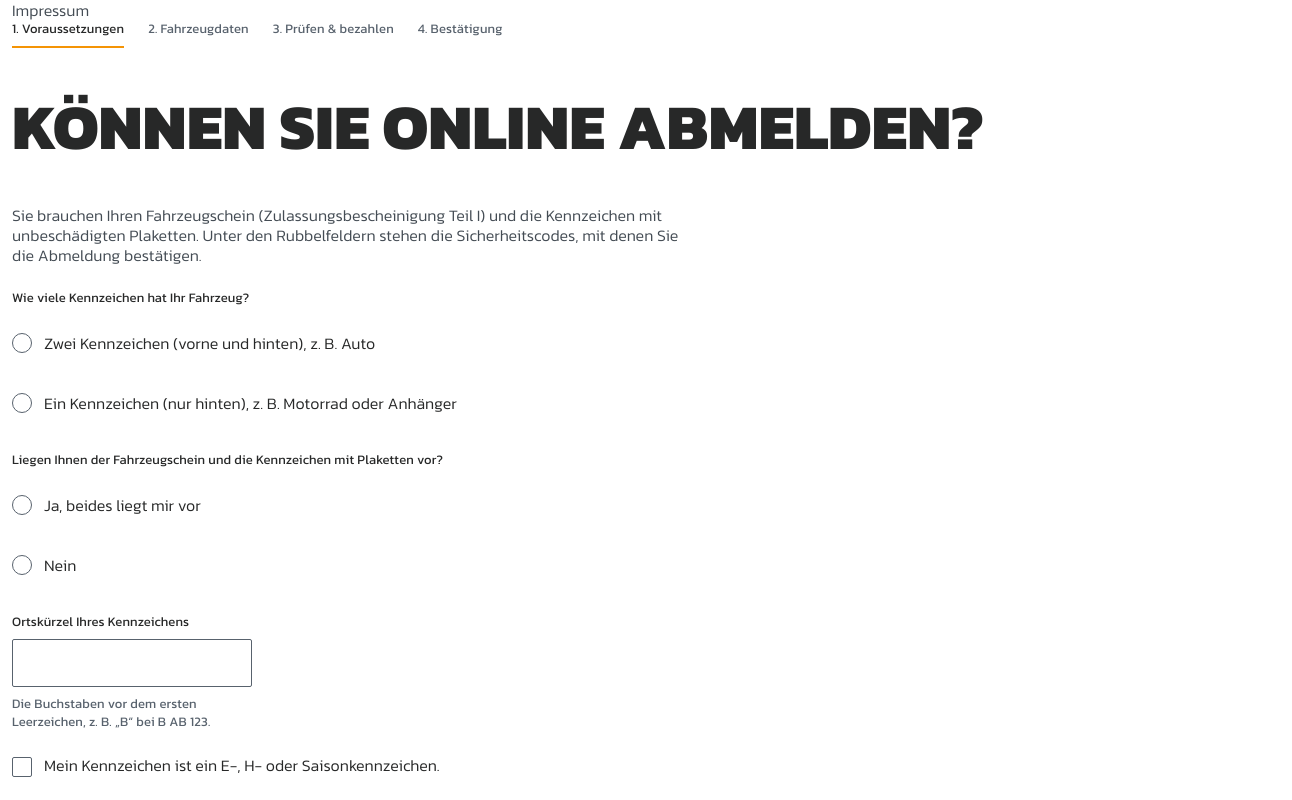
Test: de-registration funnel › eligibility › warns before any data entry when the authority processes by hand
Click the 1st radio button named "Zwei Kennzeichen": point(22, 343) left=12, top=333, right=32, bottom=353
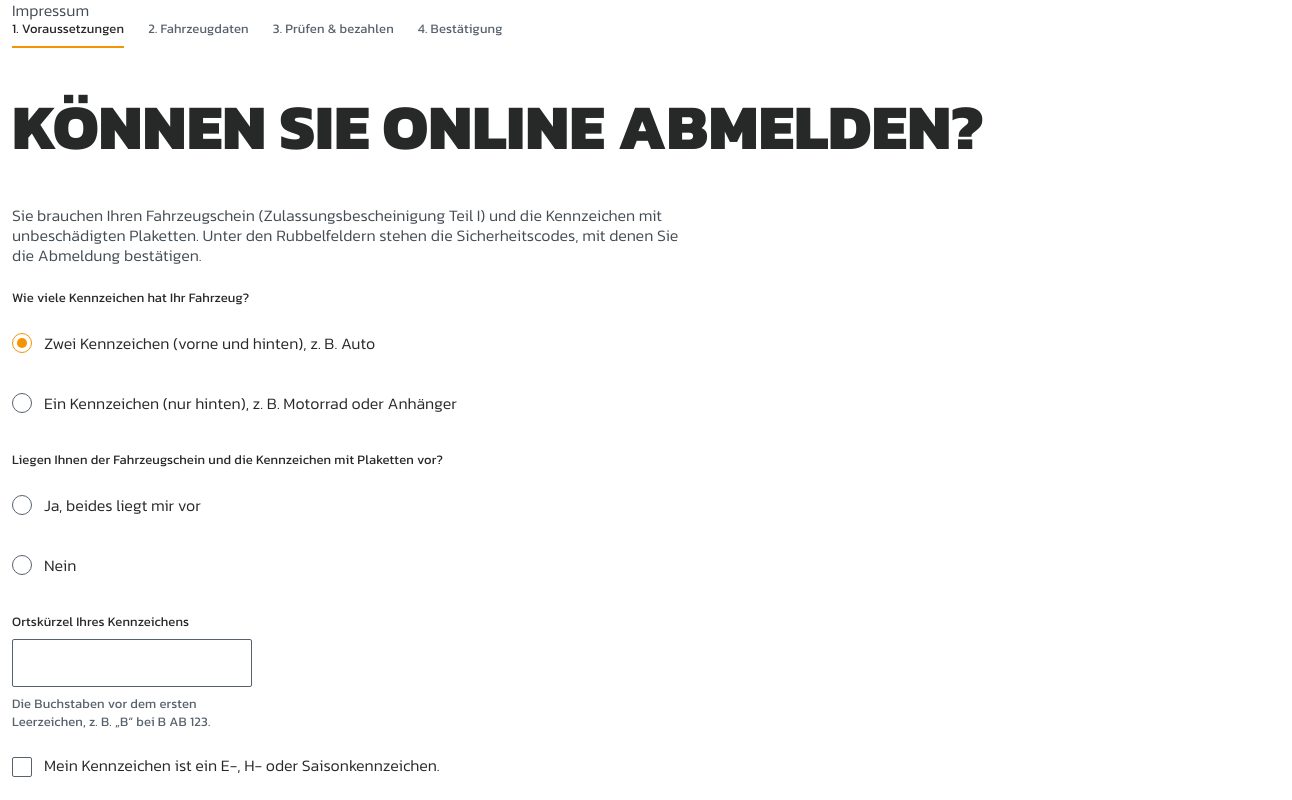
Click the radio button named "Ja, beides liegt mir vor" next to "Ja, beides liegt mir vor": point(22, 505) left=12, top=495, right=32, bottom=515
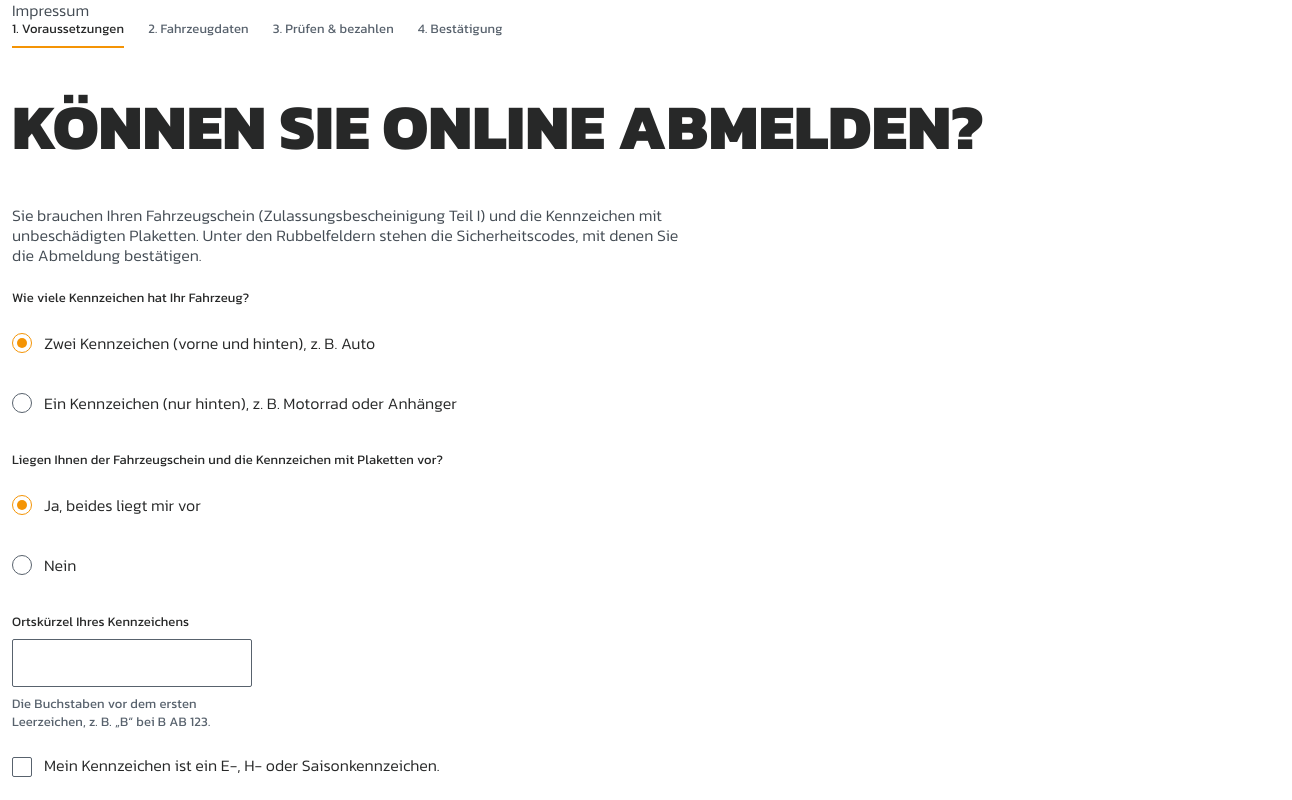
In the field labelled "Ortskürzel Ihres Kennzeichens": point(132, 663) left=12, top=639, right=252, bottom=687, type "aaa"
(page scrolled)
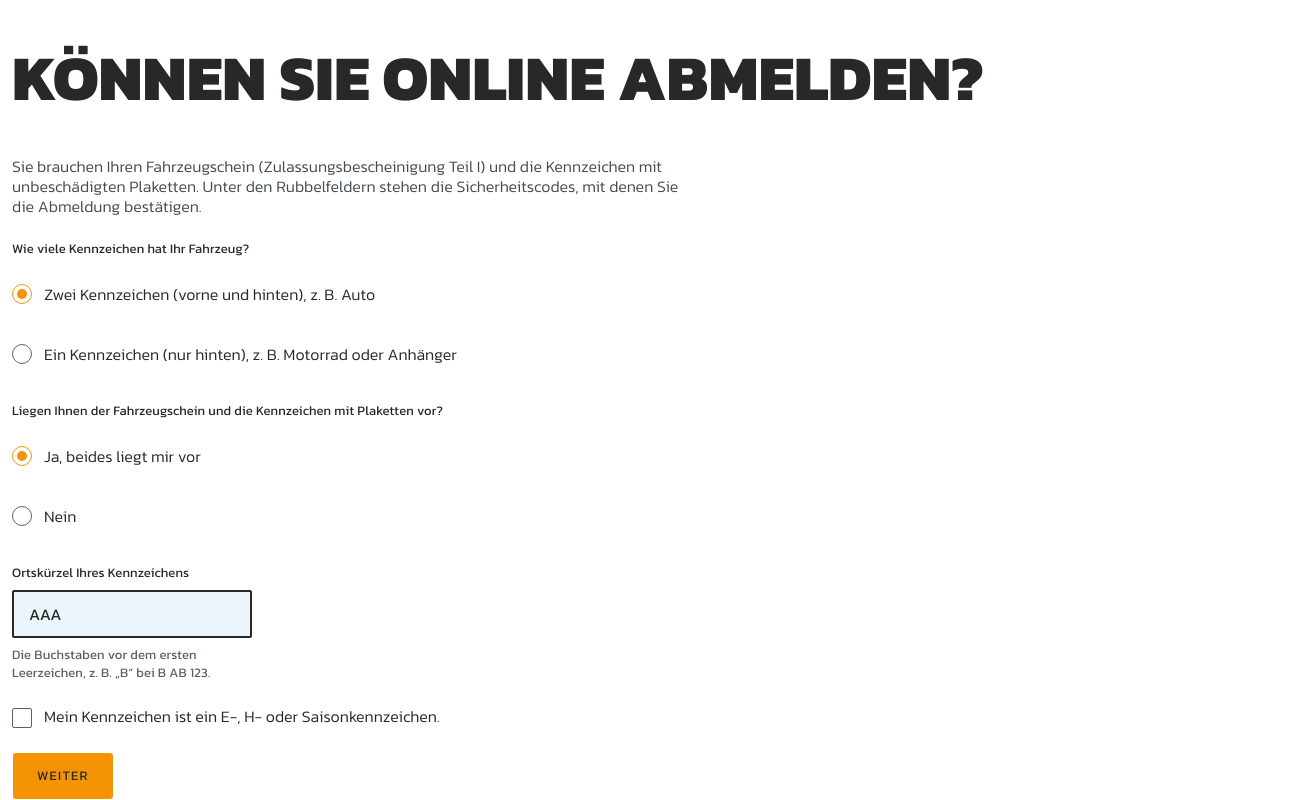
Click the button "Weiter": point(63, 776) left=12, top=752, right=114, bottom=799
(page scrolled)
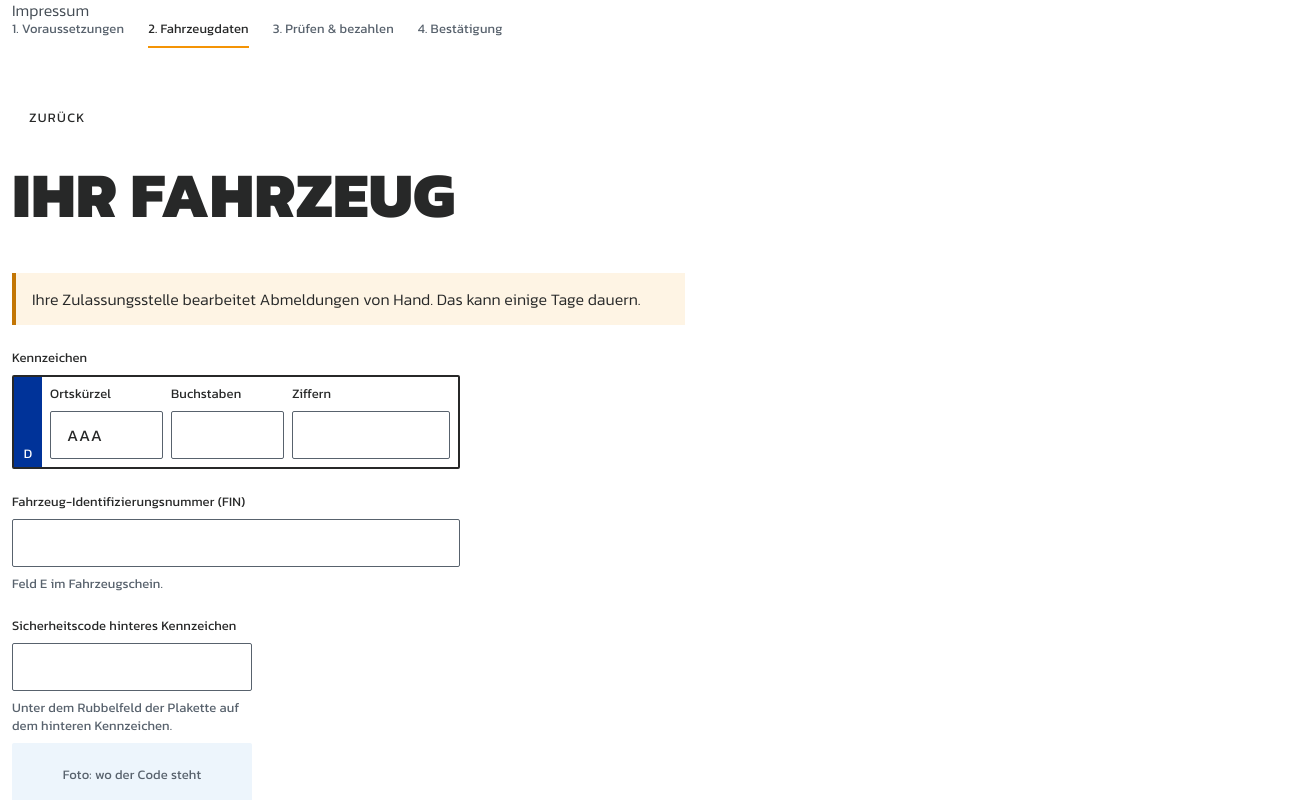
Check: the text "einige Tage dauern" is shown, box left=32, top=287, right=641, bottom=311
